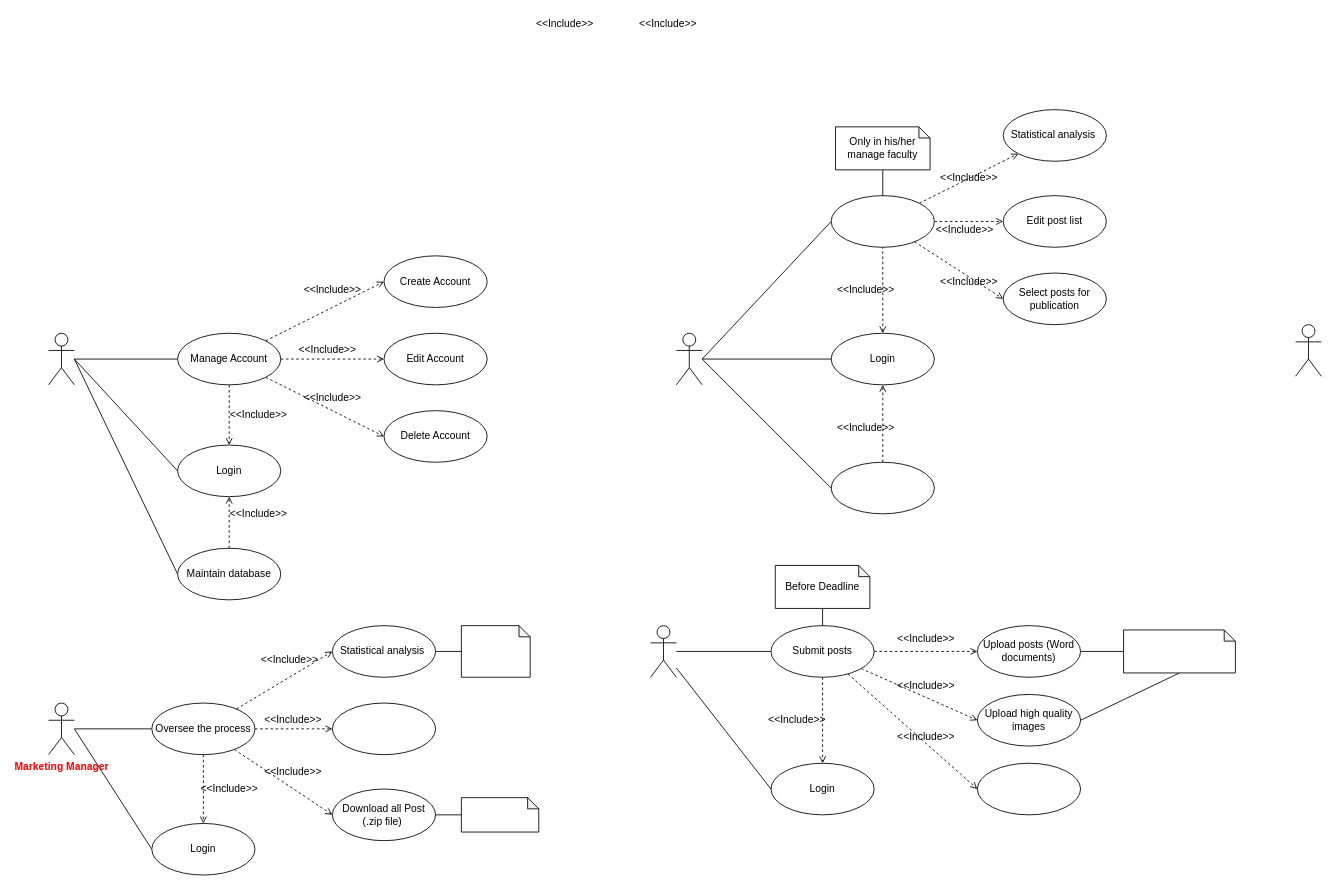
Image size: 1339x890. Some labels were removed from this diagram. Here are the shapes that lost their labels. From the top down, the box of each, then its label:
(830, 195, 934, 247): Manage all posts
(48, 332, 74, 385): Administrator
(676, 332, 702, 385): Marketing Coordinator
(1295, 324, 1321, 376): Guess
(830, 461, 934, 514): Receive email notification
(461, 625, 530, 677): All posts of faculties
(650, 625, 676, 677): Student
(1123, 629, 1235, 673): Agree to terms and conditions
(332, 702, 436, 755): View all posts
(977, 762, 1081, 815): Edit posts
(461, 797, 539, 832): After deadline
